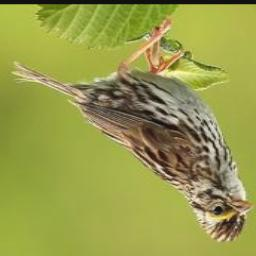Sparrow: (9, 15, 253, 250)
